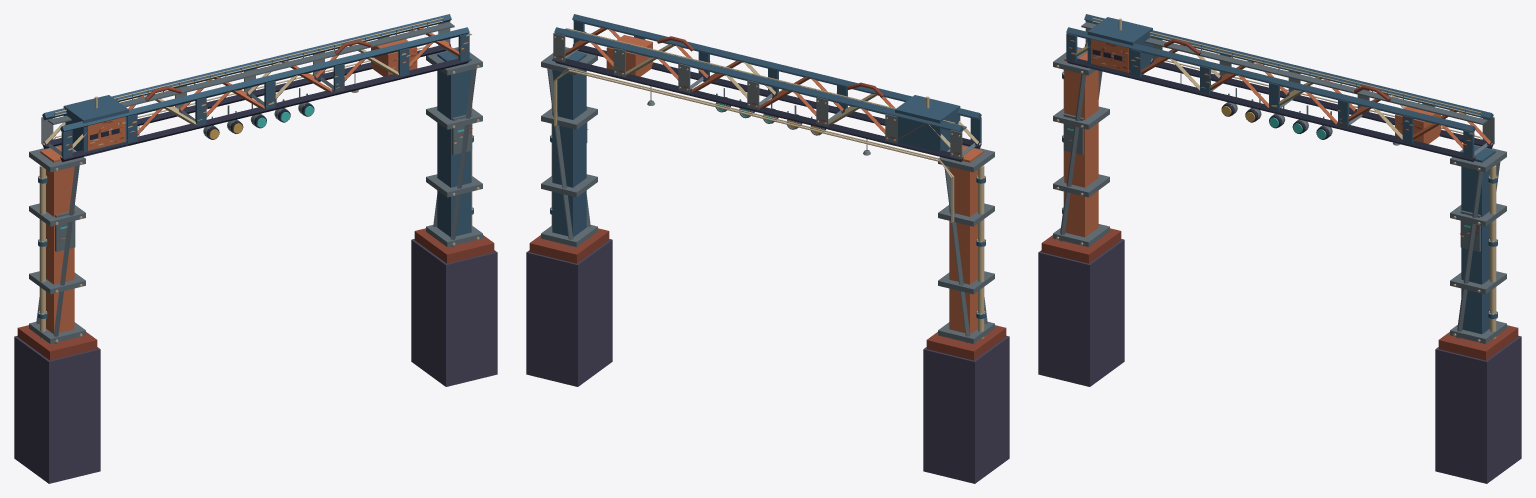
Rendered from foundry-gantry.glb.
3 renders of one model, left to right at view 1: azimuth 30°, elevation 25°; view 2: azimuth 150°, elevation 25°; view 3: azimuth 330°, elevation 25°, orthographic.
Parts seen in each view (by area): view 1: foundry-gantry; view 2: foundry-gantry; view 3: foundry-gantry.
Part boxes in pixels (x1=…): foundry-gantry: x1=14, y1=14, x2=497, y2=483; foundry-gantry: x1=526, y1=14, x2=1009, y2=483; foundry-gantry: x1=1038, y1=14, x2=1521, y2=483.
Bounding box in the file's own units: 104 × 79.3 × 14.
